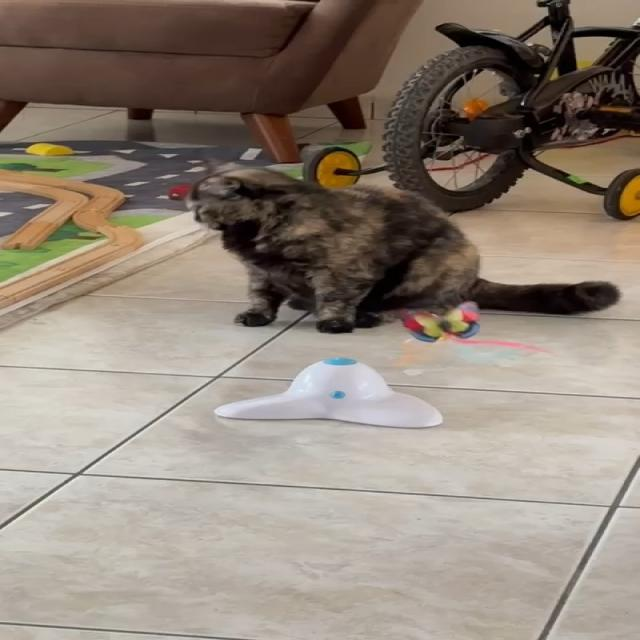authorized: (183, 158, 620, 334)
